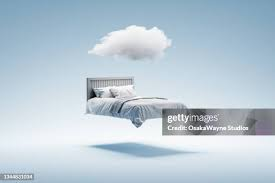bed-matress: (83, 94, 188, 123)
